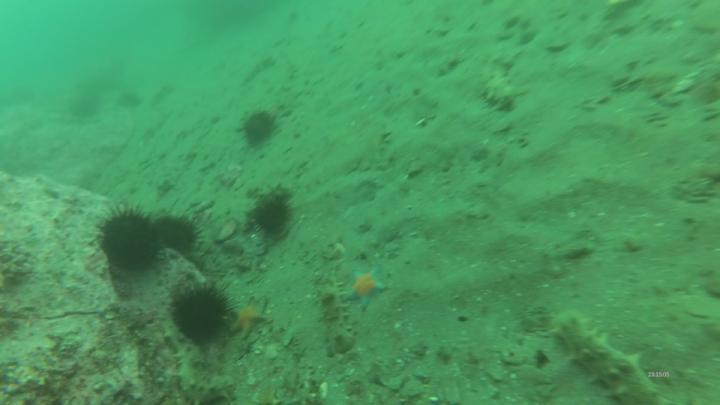echinus: (162, 278, 234, 349), (98, 203, 163, 274), (150, 209, 207, 256), (248, 196, 296, 241), (241, 109, 284, 152)
holothurian: (551, 310, 666, 405), (316, 281, 355, 355), (482, 52, 522, 113)
starfish: (343, 268, 389, 313), (232, 296, 276, 342)
